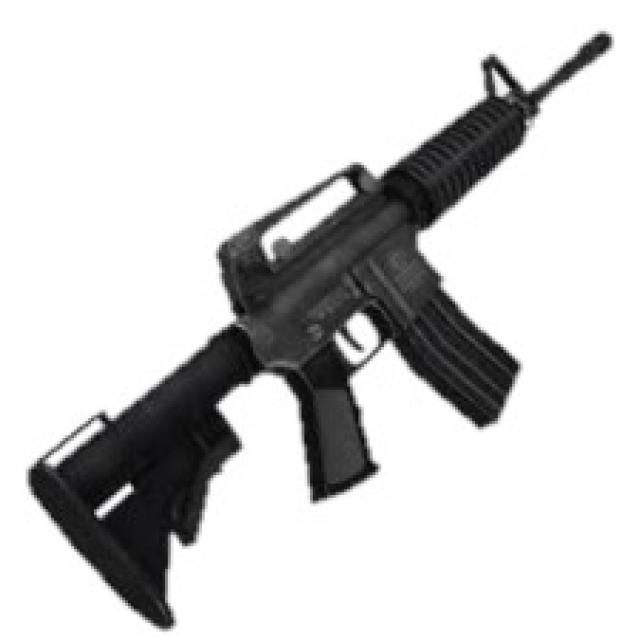rifle: (21, 28, 619, 634)
